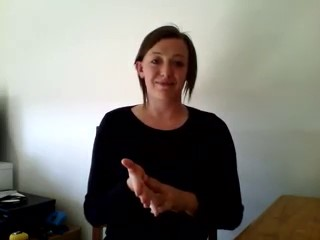N: (120, 152, 192, 222)
